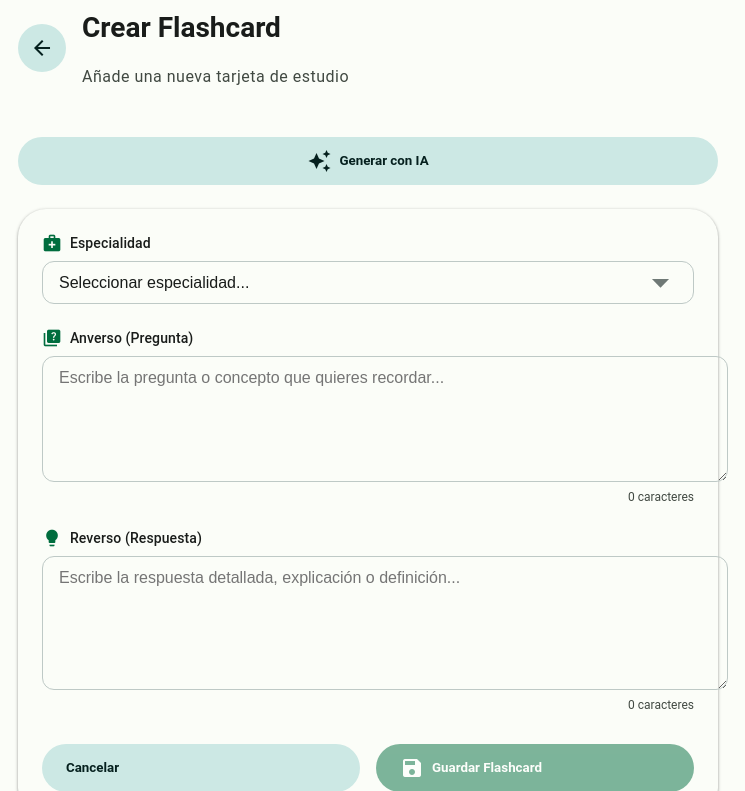
V2FlashcardCreator › shows preview toggle when form is valid
The image size is (745, 791).
Note: Select specialty
Step 1. Select "Cardiología" in the dropdown → (368, 282), box [42,260,694,304]
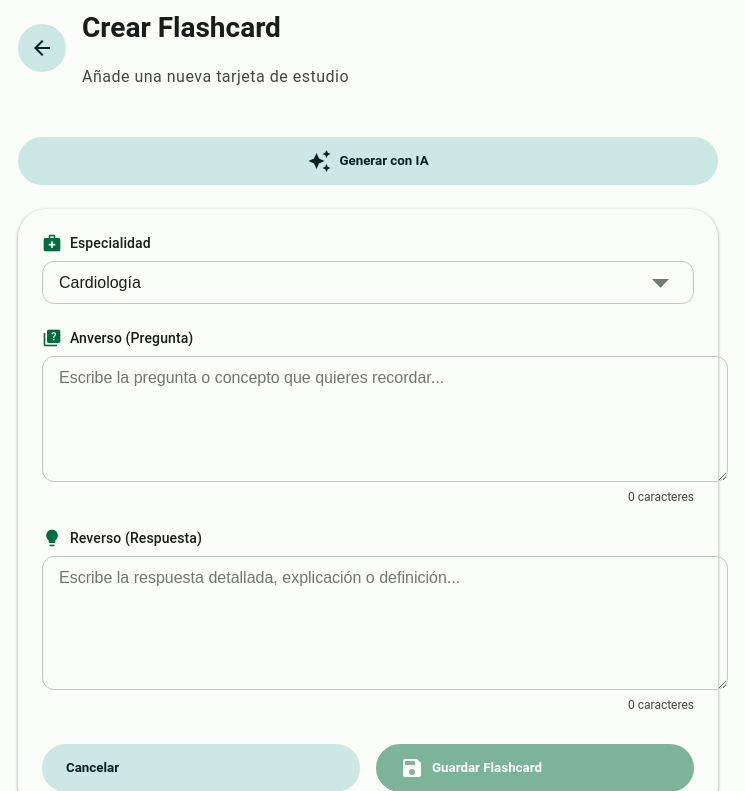
Note: Fill in form
Step 2. Type "Test question" into the text box labelled "Anverso (Pregunta)" → (385, 418), box [42,356,728,482]
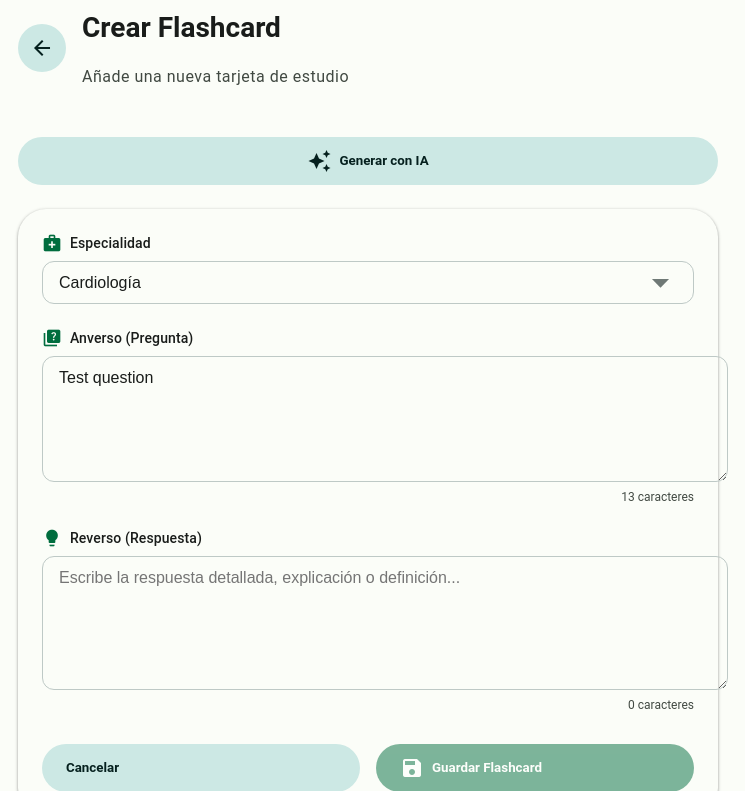
Step 3. Type "Test answer" into the text box labelled "Reverso (Respuesta)" → (385, 622), box [42,556,728,690]
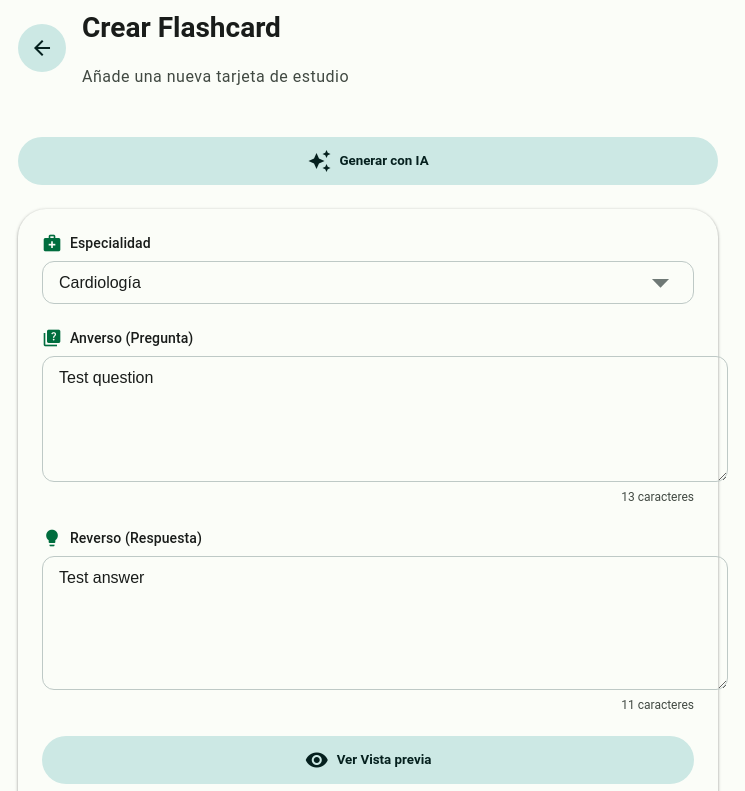
expect the button "Ver Vista previa" is shown: met, box [42,736,694,784]
